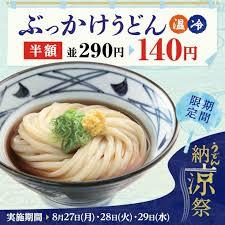bukkake: (2, 67, 173, 187)
